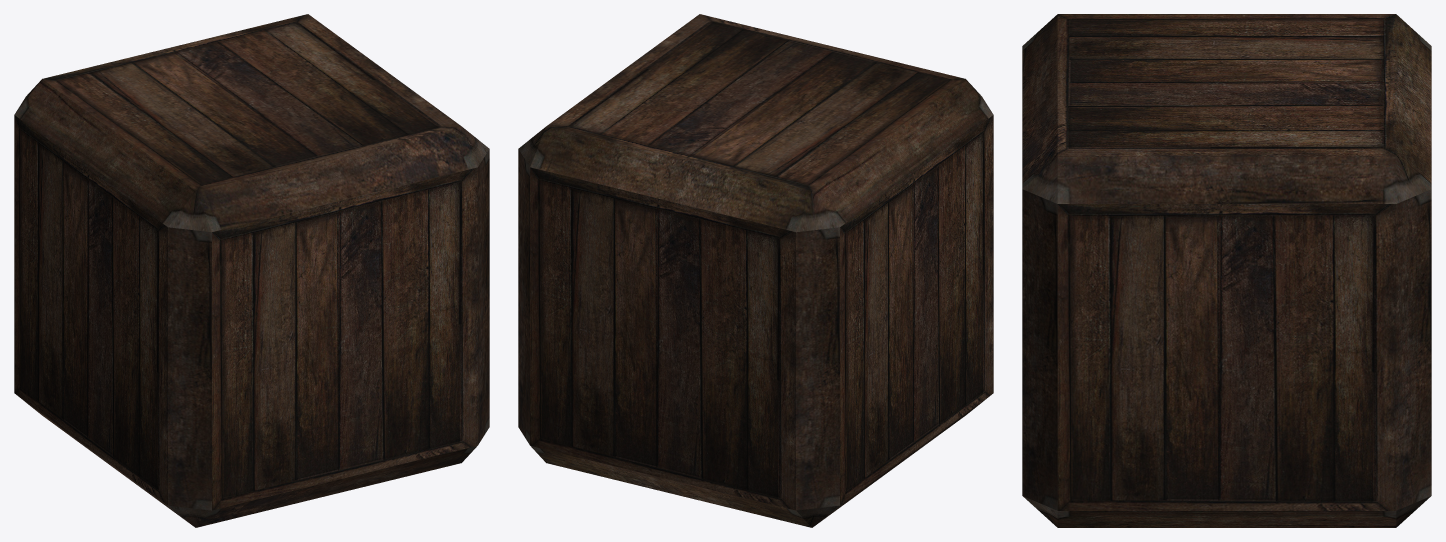
The model's file is Crate.FBX.
3 views of the same model, side by side, from view 1: azimuth 30°, elevation 25°; view 2: azimuth 150°, elevation 25°; view 3: azimuth 270°, elevation 25° (orthographic). The views are drawn at different scales.
Parts seen in each view (by area): view 1: Box001; view 2: Box001; view 3: Box001.
Boxes of the visible parts, x1=… form: Box001: x1=14, y1=14, x2=489, y2=527; Box001: x1=518, y1=14, x2=993, y2=527; Box001: x1=1022, y1=14, x2=1431, y2=527.
Size of the model in its own units: 20 by 20 by 20.
1 material, 1 textured.
